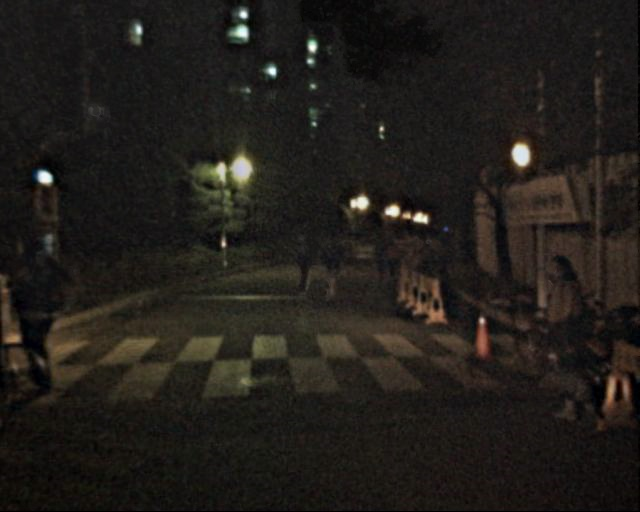person: (524, 253, 594, 423), (6, 231, 80, 391), (286, 230, 315, 300), (314, 236, 342, 304), (379, 236, 400, 288), (369, 238, 390, 289)
